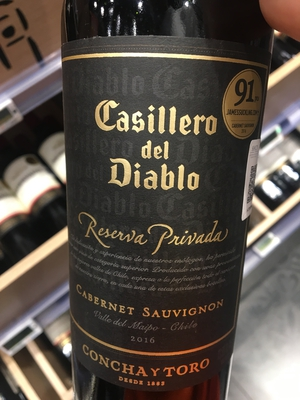casillero del diablo reserva privada cabernet sauvignon: (54, 14, 270, 400)
